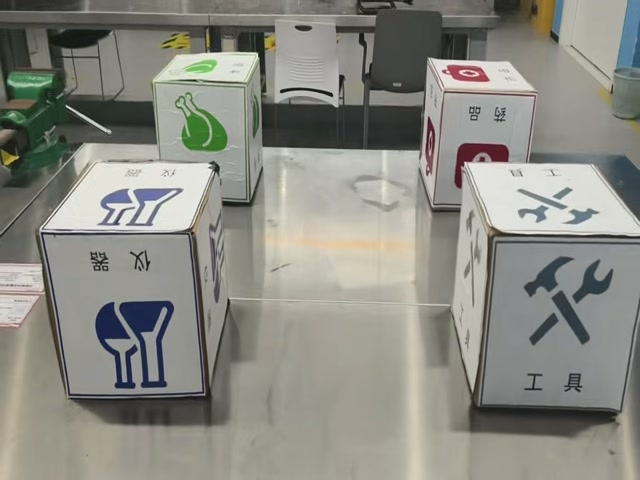Cube_food: (154, 53, 260, 89)
Cube_ins: (41, 165, 216, 237)
Cube_medicine: (428, 58, 539, 95)
Cube_tool: (468, 165, 640, 243)
